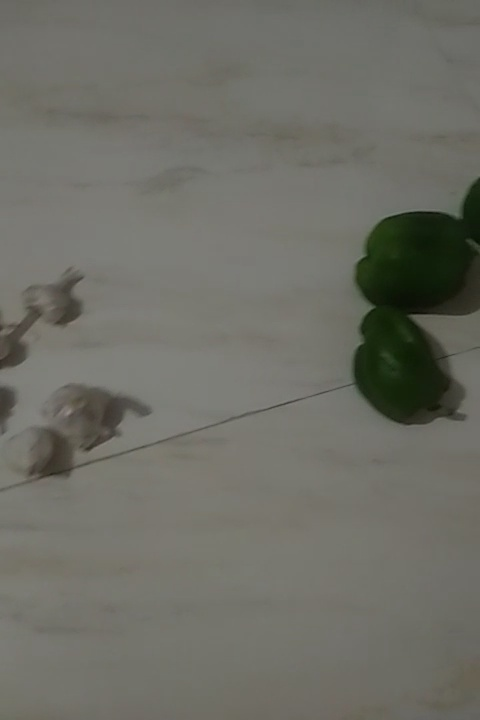capsicum: (348, 209, 473, 321), (352, 306, 448, 429)
garlic: (30, 374, 127, 451), (22, 263, 78, 328), (1, 424, 61, 477), (1, 312, 41, 367)
